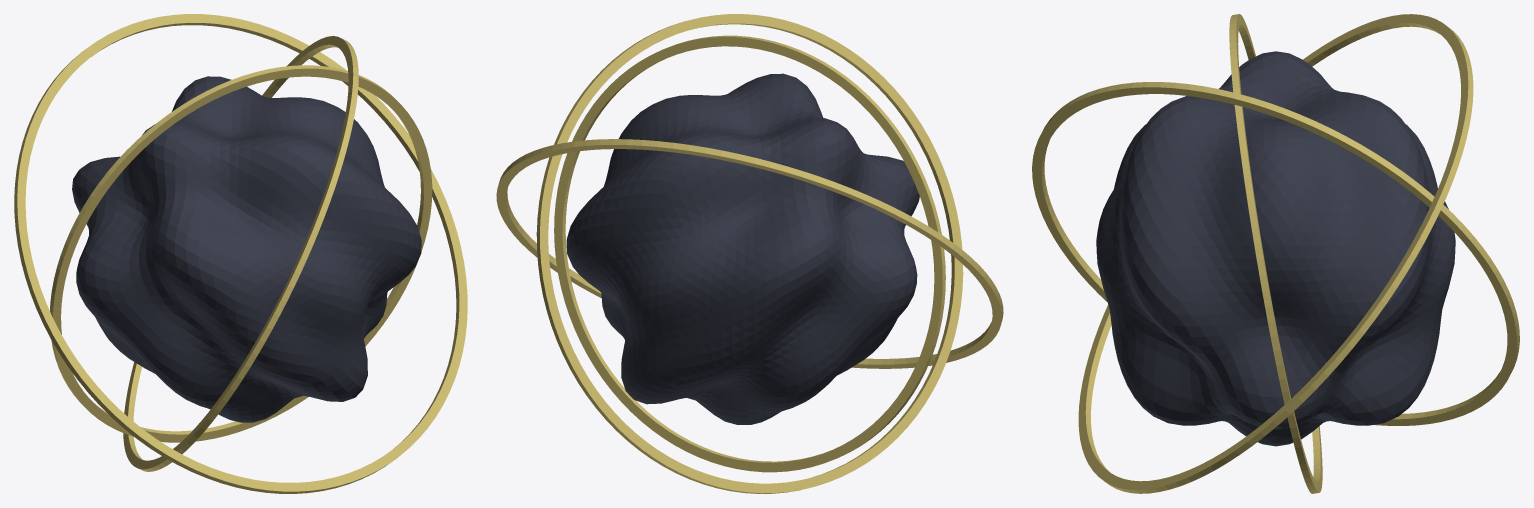
File: gpu-artifact.glb
The picture shows the model from 3 angles, left to right: view 1: azimuth 30°, elevation 25°; view 2: azimuth 150°, elevation 25°; view 3: azimuth 270°, elevation 25°; orthographic projection. The views are drawn at different scales.
Visible parts, largest first — view 1: adytum-alchemist-ai-workflow_obsidian_core, adytum-alchemist-ai-workflow_orbital_ring_2, adytum-alchemist-ai-workflow_orbital_ring_0, adytum-alchemist-ai-workflow_orbital_ring_1; view 2: adytum-alchemist-ai-workflow_obsidian_core, adytum-alchemist-ai-workflow_orbital_ring_1, adytum-alchemist-ai-workflow_orbital_ring_0, adytum-alchemist-ai-workflow_orbital_ring_2; view 3: adytum-alchemist-ai-workflow_obsidian_core, adytum-alchemist-ai-workflow_orbital_ring_2, adytum-alchemist-ai-workflow_orbital_ring_1, adytum-alchemist-ai-workflow_orbital_ring_0.
Part boxes in pixels (<box>): adytum-alchemist-ai-workflow_obsidian_core: <box>72,76,421,422</box>; adytum-alchemist-ai-workflow_orbital_ring_2: <box>14,14,467,493</box>; adytum-alchemist-ai-workflow_orbital_ring_0: <box>50,65,432,442</box>; adytum-alchemist-ai-workflow_orbital_ring_1: <box>123,36,358,471</box>; adytum-alchemist-ai-workflow_obsidian_core: <box>566,73,919,424</box>; adytum-alchemist-ai-workflow_orbital_ring_1: <box>536,14,963,493</box>; adytum-alchemist-ai-workflow_orbital_ring_0: <box>554,35,945,472</box>; adytum-alchemist-ai-workflow_orbital_ring_2: <box>496,139,1003,368</box>; adytum-alchemist-ai-workflow_obsidian_core: <box>1096,51,1455,446</box>; adytum-alchemist-ai-workflow_orbital_ring_2: <box>1078,14,1473,493</box>; adytum-alchemist-ai-workflow_orbital_ring_1: <box>1032,82,1519,425</box>; adytum-alchemist-ai-workflow_orbital_ring_0: <box>1229,14,1322,493</box>.
Size of the model in its own units: 3.22 by 2.72 by 2.77.
